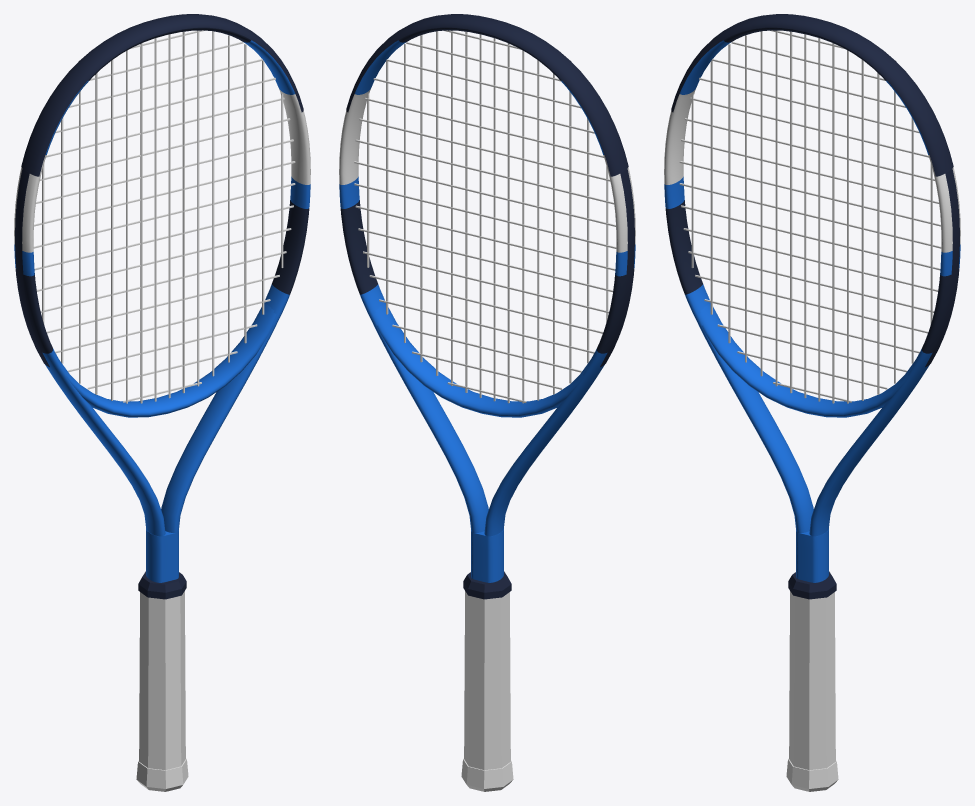
The model's file is babolat-evo-drive-2021gen.glb.
The picture shows the model from 3 angles, left to right: view 1: azimuth 30°, elevation 25°; view 2: azimuth 150°, elevation 25°; view 3: azimuth 330°, elevation 25°; orthographic projection.
Visible parts, largest first — view 1: frame, strings_mains, strings_crosses, grip, bumper, grommets, butt_cap, collar; view 2: frame, strings_mains, strings_crosses, grip, bumper, grommets, butt_cap, collar; view 3: frame, strings_mains, strings_crosses, grip, bumper, grommets, butt_cap, collar.
Part boxes in pixels (x1=…): frame: x1=14, y1=27, x2=310, y2=582; strings_mains: x1=42, y1=30, x2=283, y2=403; strings_crosses: x1=33, y1=30, x2=295, y2=402; grip: x1=139, y1=591, x2=185, y2=770; bumper: x1=21, y1=14, x2=303, y2=176; grommets: x1=15, y1=168, x2=49, y2=367; butt_cap: x1=136, y1=758, x2=188, y2=791; collar: x1=138, y1=571, x2=186, y2=599; frame: x1=339, y1=27, x2=635, y2=582; strings_mains: x1=367, y1=30, x2=608, y2=403; strings_crosses: x1=354, y1=30, x2=616, y2=402; grip: x1=464, y1=591, x2=510, y2=770; bumper: x1=346, y1=14, x2=628, y2=176; grommets: x1=600, y1=168, x2=634, y2=367; butt_cap: x1=461, y1=758, x2=513, y2=791; collar: x1=463, y1=571, x2=511, y2=599; frame: x1=664, y1=27, x2=960, y2=582; strings_mains: x1=691, y1=30, x2=932, y2=403; strings_crosses: x1=679, y1=30, x2=941, y2=402; grip: x1=789, y1=591, x2=835, y2=770; bumper: x1=671, y1=14, x2=953, y2=176; grommets: x1=925, y1=168, x2=959, y2=367; butt_cap: x1=786, y1=758, x2=838, y2=791; collar: x1=788, y1=571, x2=836, y2=599.
Size of the model in its own units: 0.2726 by 0.6861 by 0.0396.
